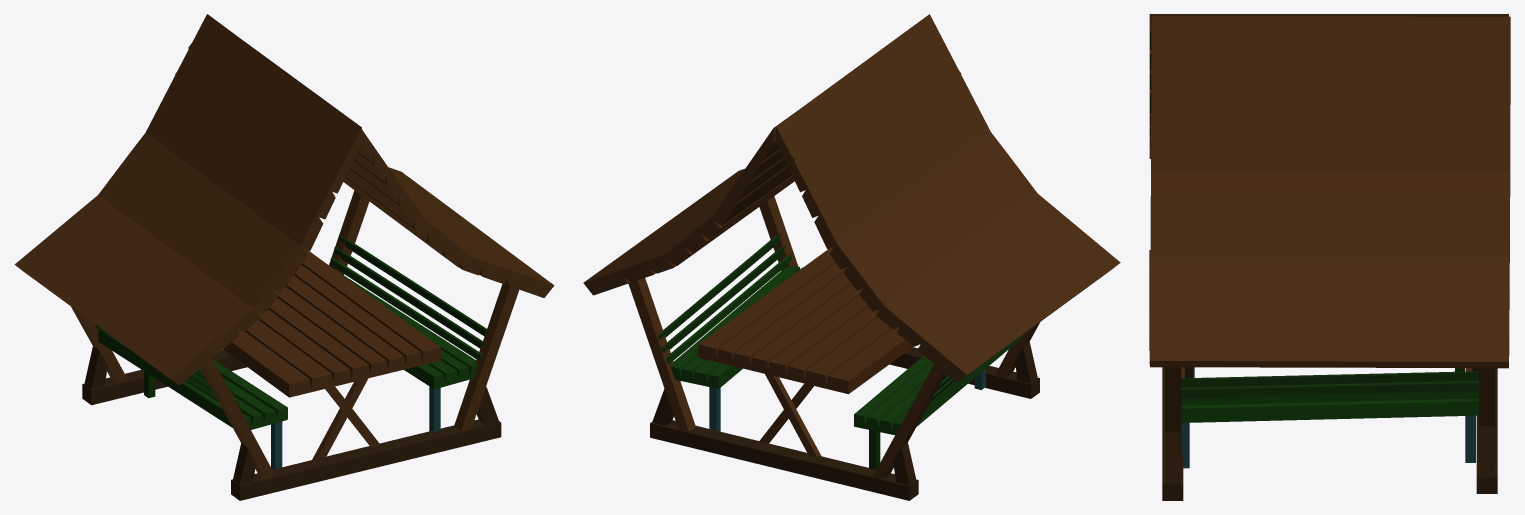
Rendered from cafe.glb.
3 renders of one model, left to right at view 1: azimuth 30°, elevation 25°; view 2: azimuth 150°, elevation 25°; view 3: azimuth 270°, elevation 25°, orthographic. The views are drawn at different scales.
Visible parts, largest first — view 1: Cube.003_2, Cube.002_3; view 2: Cube.003_2, Cube.002_3; view 3: Cube.003_2, Cube.002_3.
Part boxes in pixels (left/top/right/bottom): Cube.003_2: left=14, top=14, right=554, bottom=478; Cube.002_3: left=82, top=346, right=501, bottom=500; Cube.003_2: left=583, top=14, right=1120, bottom=478; Cube.002_3: left=650, top=342, right=1039, bottom=500; Cube.003_2: left=1149, top=14, right=1510, bottom=468; Cube.002_3: left=1162, top=367, right=1497, bottom=500.
Bounding box in the file's own units: 2.89 × 2.49 × 2.01.
